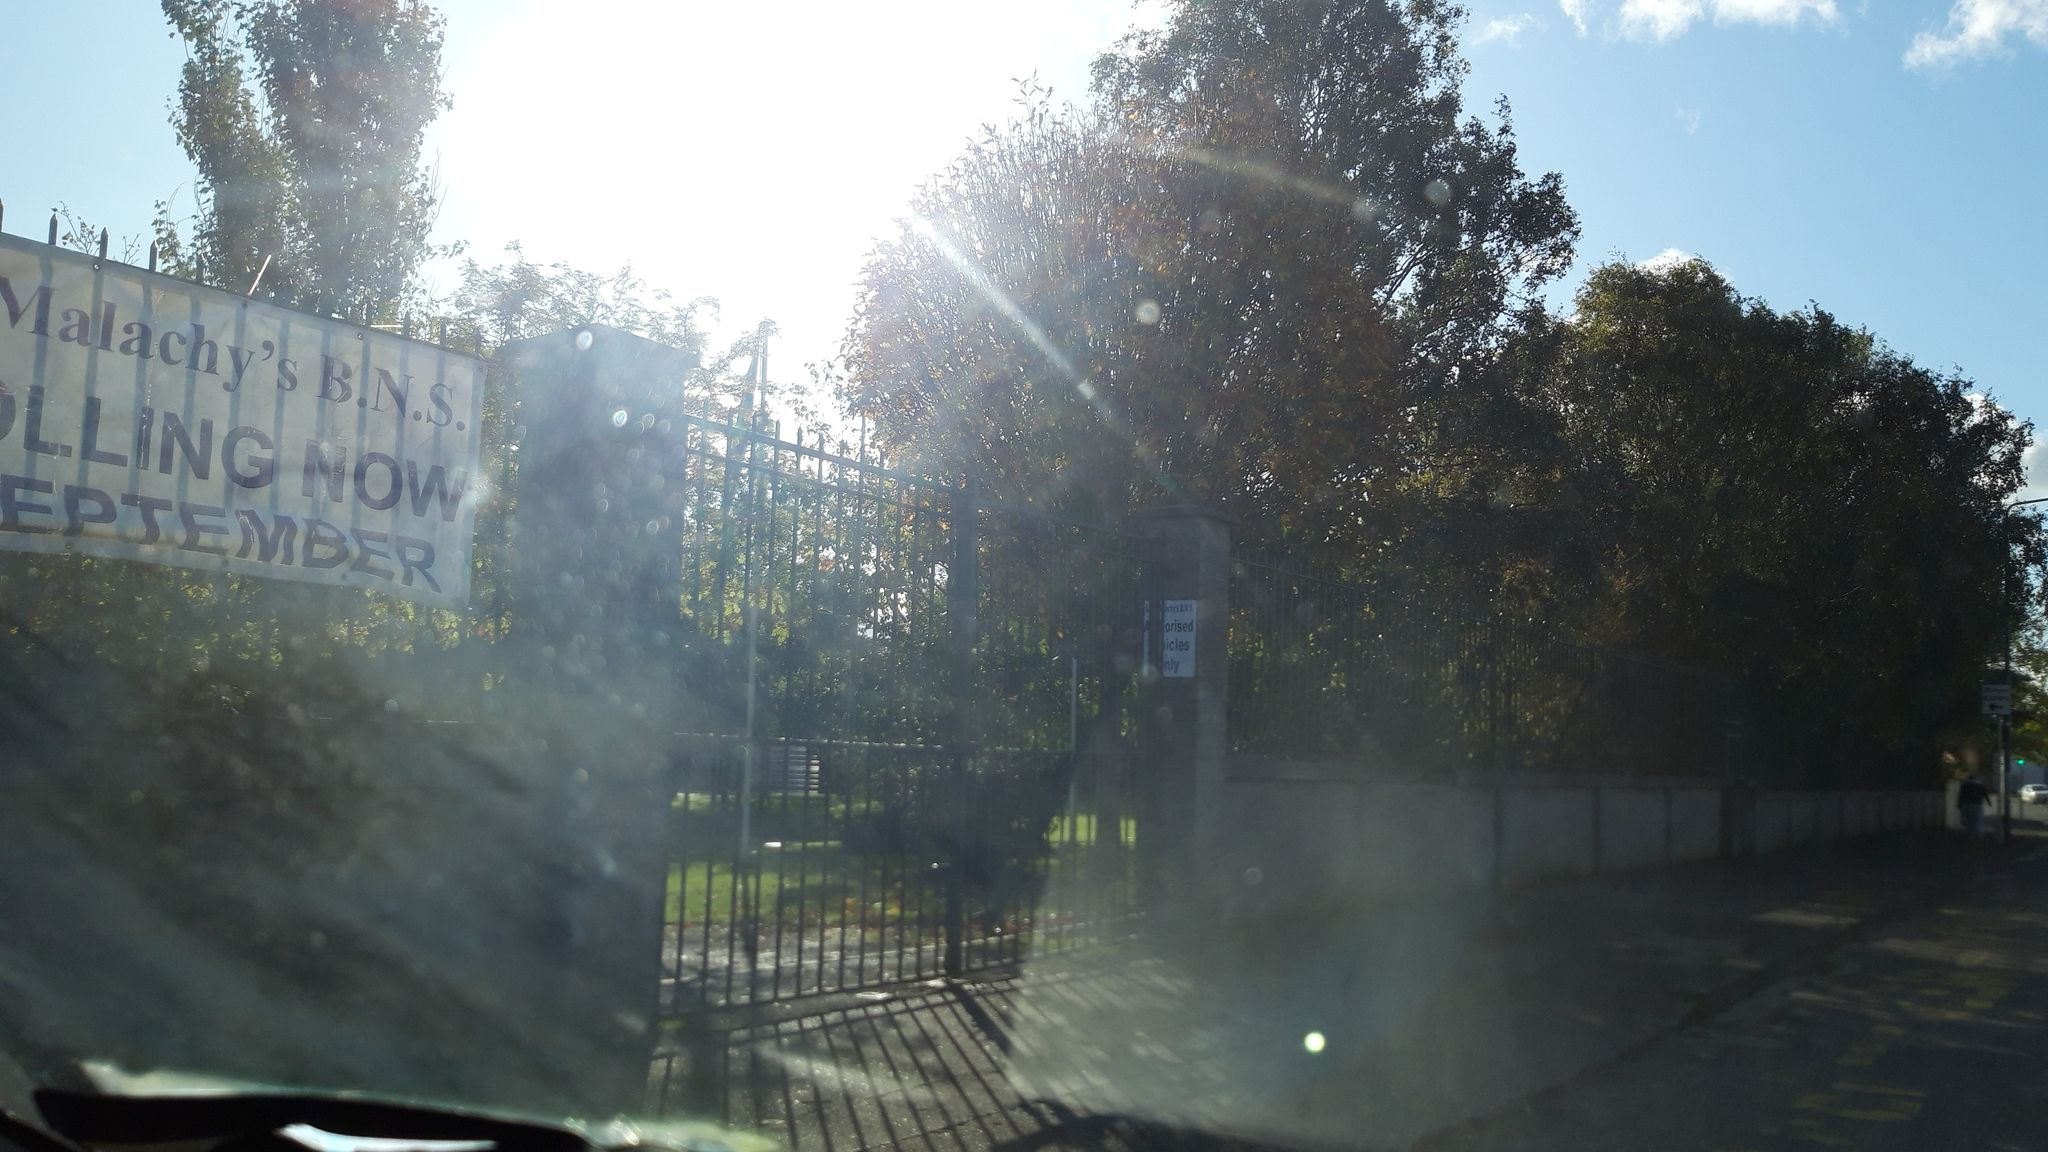vinyl banner: (1, 219, 505, 664)
